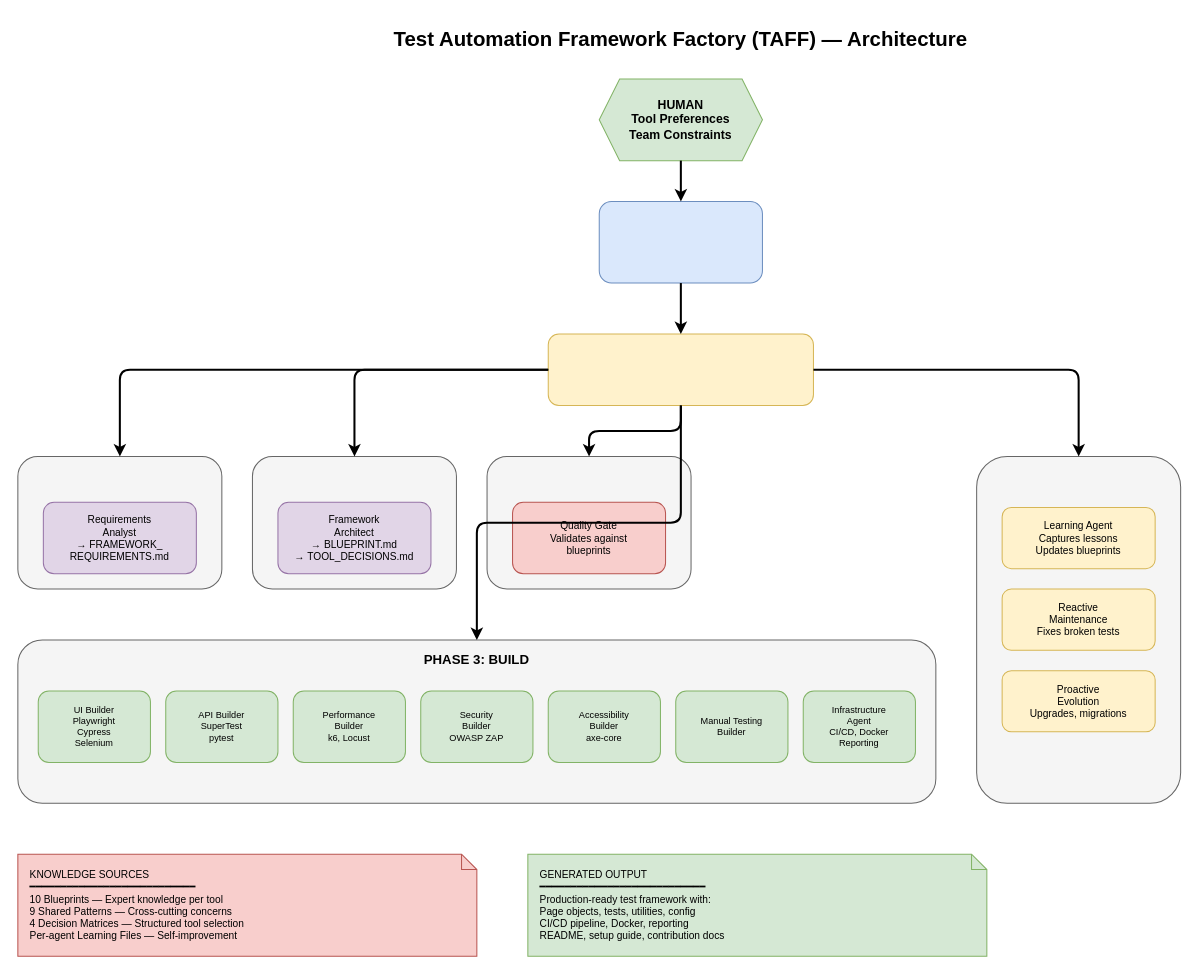
Some shapes in this 1199 by 974 pixel diagram are drawn without their labels. The shapes that lost their labels are listed below. From the top down, each one's box as (x1, y1, x2, y2) in pixels, then its label:
(598, 200, 762, 283): CTO Agent Industry Standards Tool Validation Model Routing
(547, 333, 813, 405): Factory Orchestrator Workflow Coordination State Management | Phase Gates
(17, 455, 222, 589): PHASE 1: ANALYZE
(251, 455, 456, 589): PHASE 2: DESIGN
(486, 455, 691, 589): PHASE 4: VALIDATE
(976, 455, 1181, 803): LIFECYCLE
